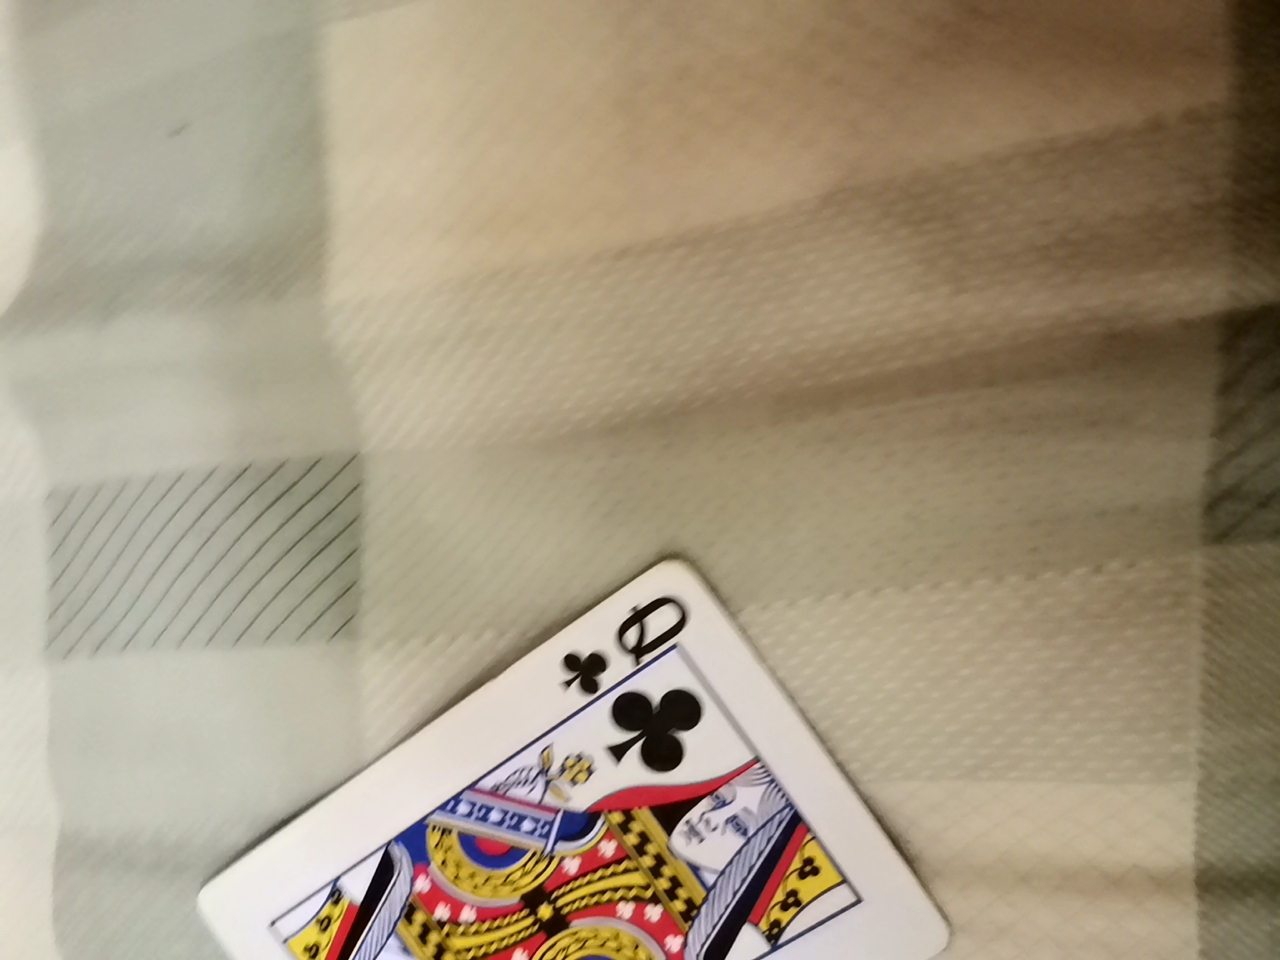mh q: (161, 591, 1019, 960)
